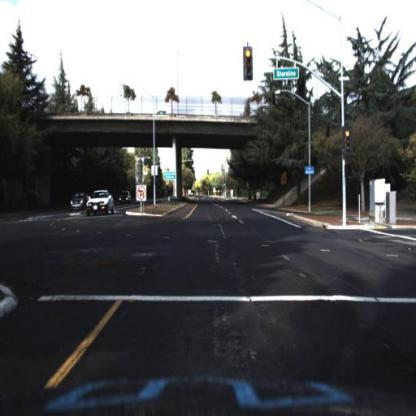car: (86, 187, 116, 220), (69, 191, 91, 218), (69, 191, 86, 216), (118, 186, 133, 209), (118, 189, 133, 210)
trafficLight: (343, 124, 356, 154)
trafficLight-Red: (244, 46, 256, 80)
